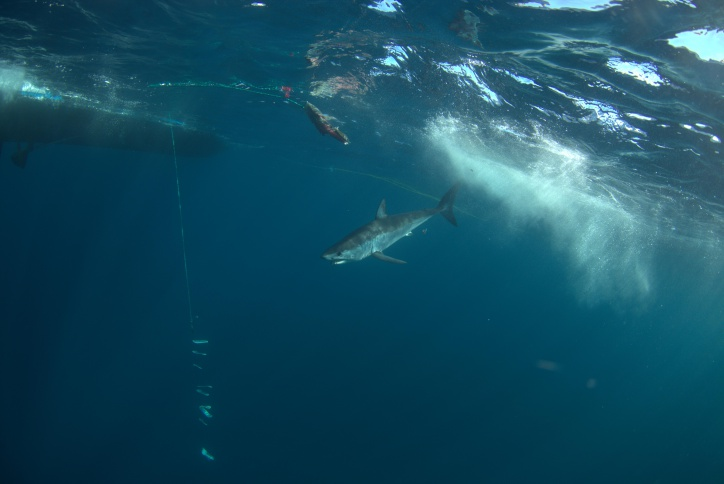Mako: (309, 173, 472, 274)
